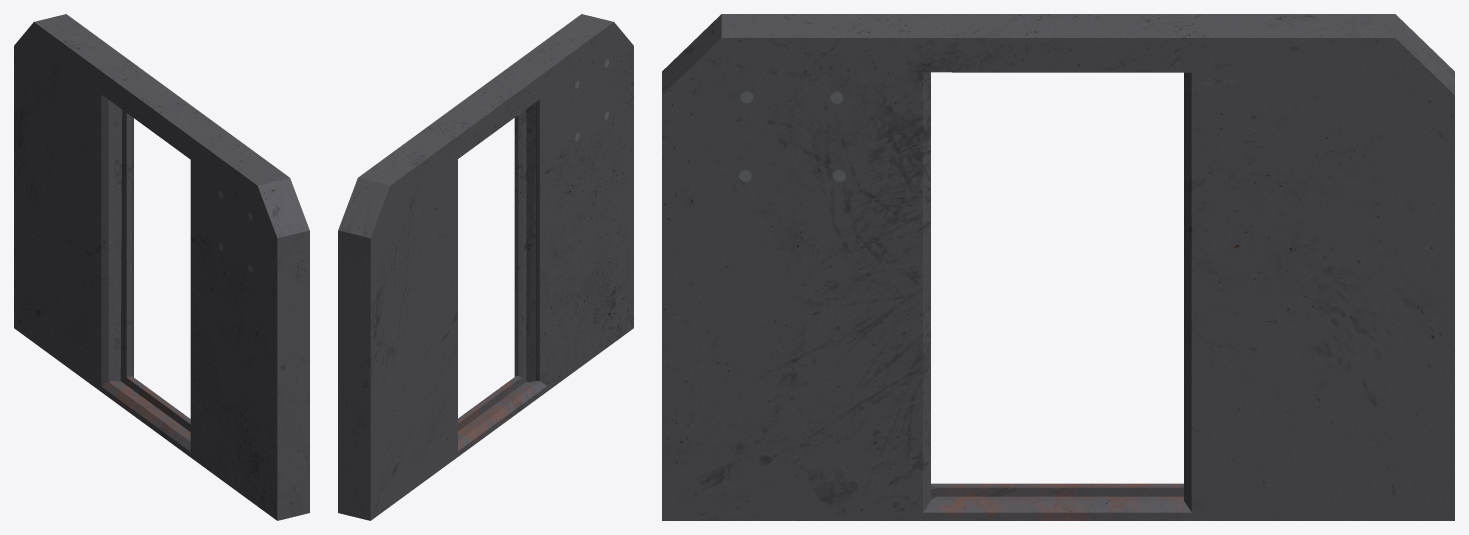
Rendered from starship_door_frame.FBX.
The picture shows the model from 3 angles, left to right: view 1: azimuth 30°, elevation 25°; view 2: azimuth 150°, elevation 25°; view 3: azimuth 270°, elevation 25°; orthographic projection. The views are drawn at different scales.
Parts seen in each view (by area): view 1: starship_door_frame; view 2: starship_door_frame; view 3: starship_door_frame.
Part boxes in pixels (x1,y1,x2,y2): starship_door_frame: (14, 14, 309, 520); starship_door_frame: (338, 14, 633, 520); starship_door_frame: (662, 14, 1454, 520).
Size of the model in its own units: 0.1732 by 1.64 by 2.43.
